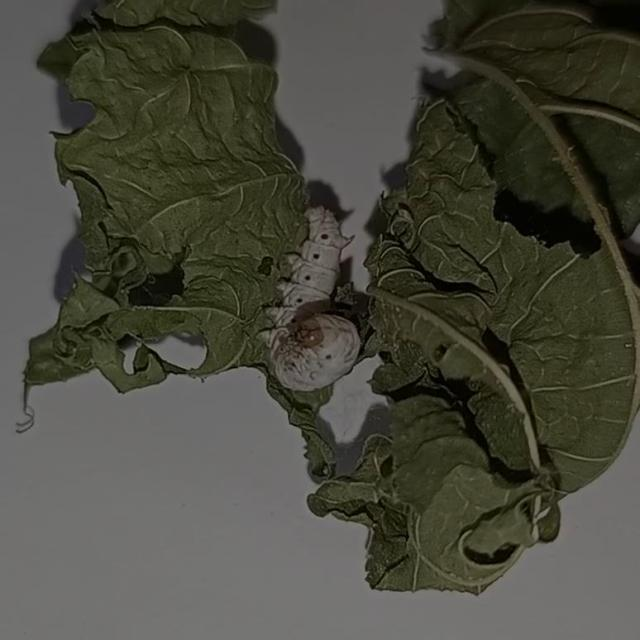Healthy: (249, 196, 376, 399)
